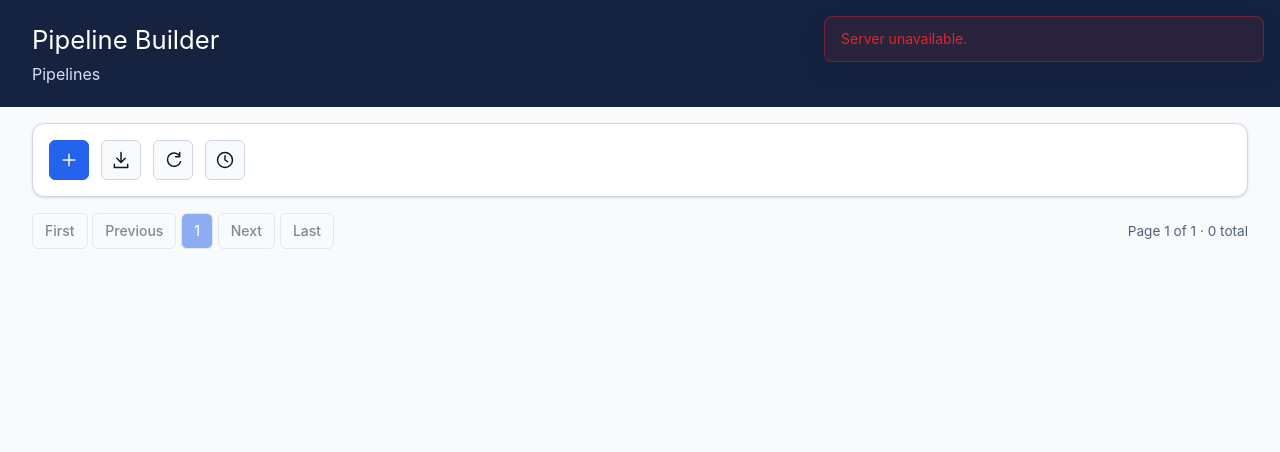
Scenario: shows load errors and supports retry
This screenshot has width=1280, height=452.
Expected: the message reads "Server unavailable.", [841,30,967,47]
Step 1. Click the button named "Refresh pipelines" → click(173, 160), box [153,140,193,180]
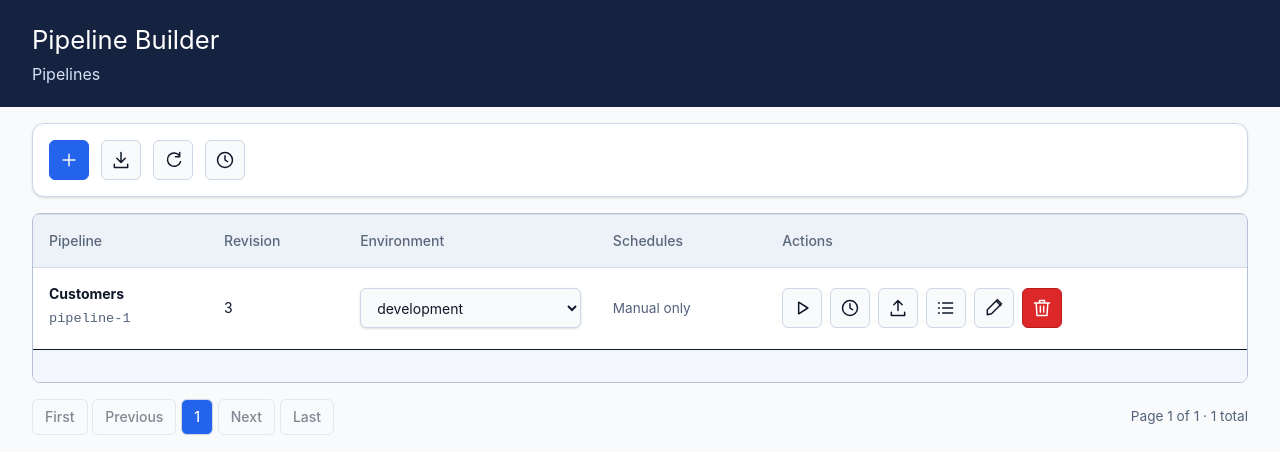
Now the text "Customers" is shown, box [49,285,124,302]
